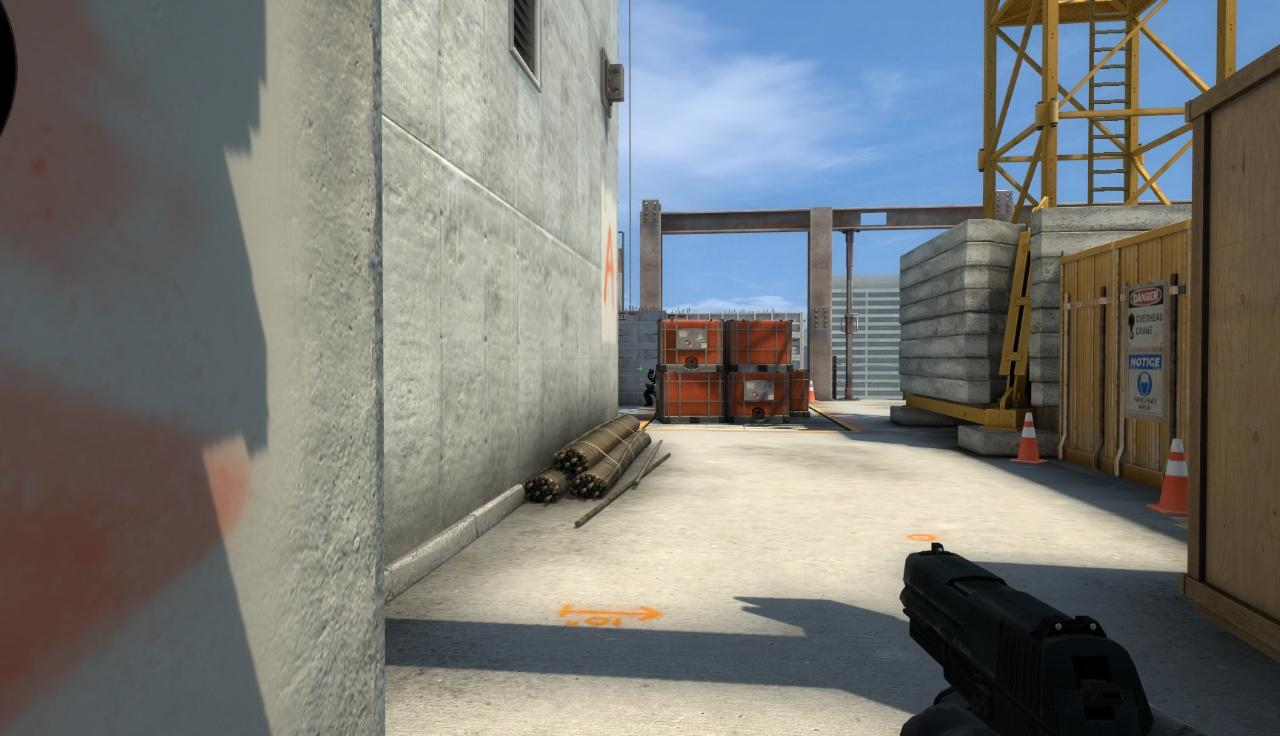pistol: (897, 541, 1160, 733)
tt: (643, 368, 657, 406)
tthead: (648, 369, 655, 379)
